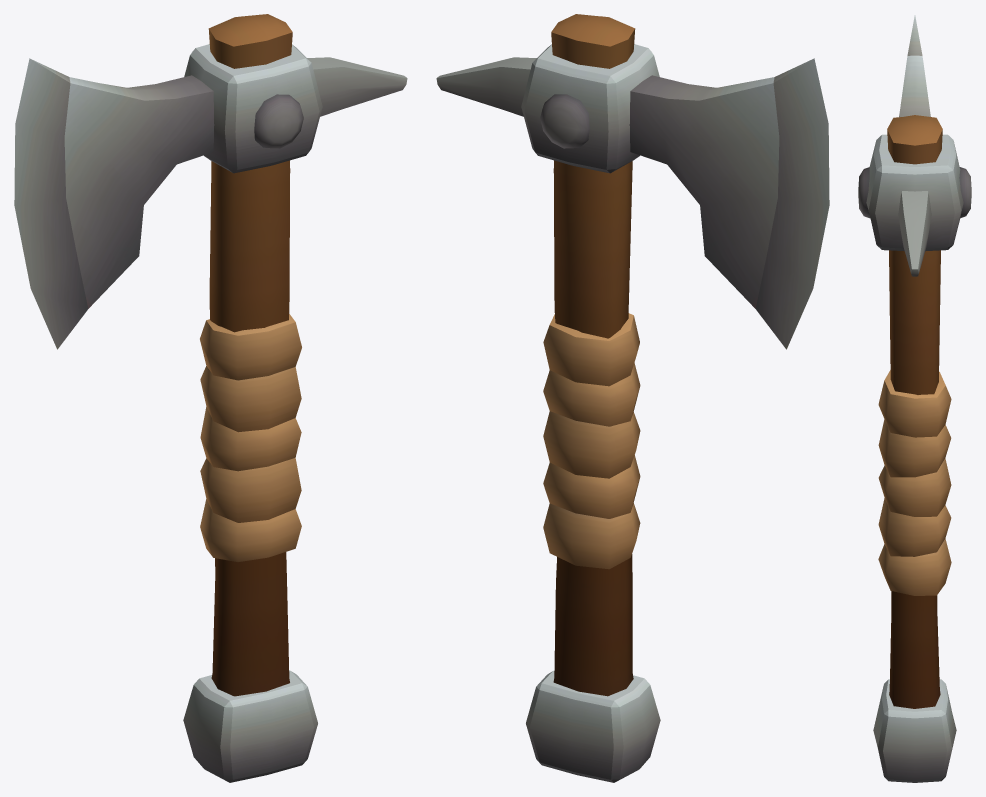
File: Axe_05.glb
The picture shows the model from 3 angles, left to right: view 1: azimuth 30°, elevation 25°; view 2: azimuth 150°, elevation 25°; view 3: azimuth 270°, elevation 25°; orthographic projection. The views are drawn at different scales.
Visible parts, largest first — view 1: Axe_05; view 2: Axe_05; view 3: Axe_05.
Boxes of the visible parts, left/top/right/bottom form: Axe_05: left=14, top=14, right=407, bottom=782; Axe_05: left=436, top=14, right=829, bottom=782; Axe_05: left=858, top=15, right=971, bottom=782.
Size of the model in its own units: 0.5969 by 1.1 by 0.1729.
1 material, 1 textured.
